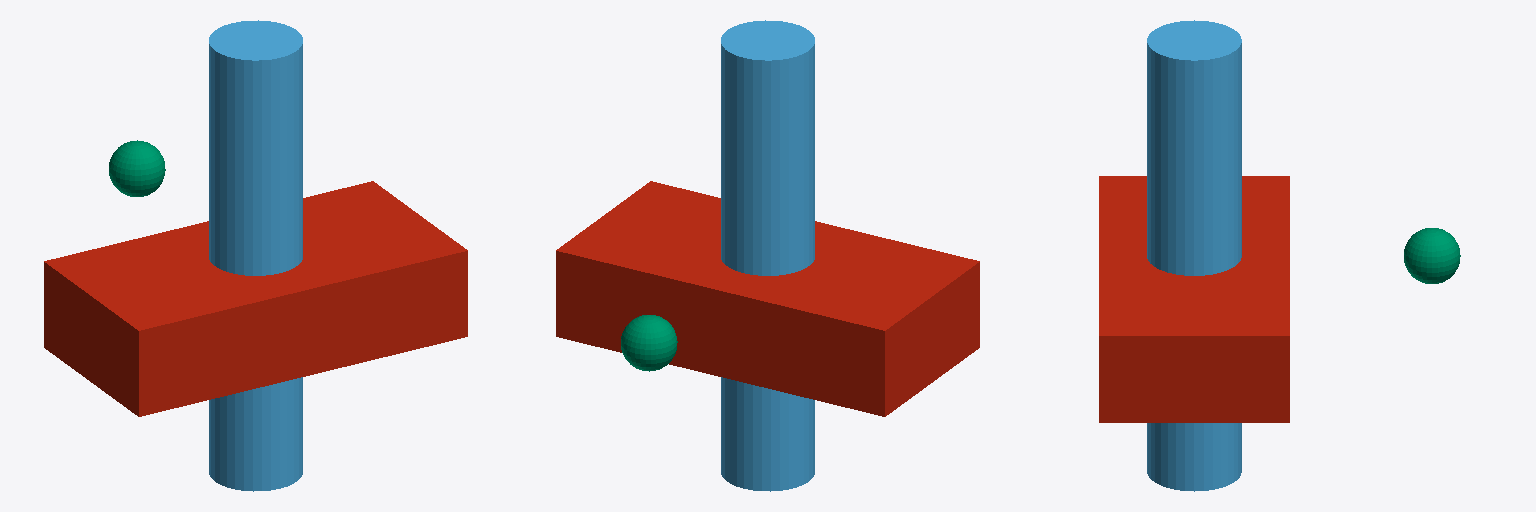
robot.urdf — two_link_arm:
<?xml version="1.0"?>
<robot name="two_link_arm">
  <link name="base_link">
    <inertial>
      <mass value="2"/>
      <inertia ixx="0.01" ixy="0" ixz="0" iyy="0.01" iyz="0" izz="0.01"/>
    </inertial>
    <visual>
      <origin xyz="0 0 0" rpy="0 0 0"/>
      <geometry><box size="0.4 0.2 0.1"/></geometry>
      <material name="material"><color rgba="0.8 0.2 0.1 1"/></material>
    </visual>
    <collision>
      <origin xyz="0 0 0" rpy="0 0 0"/>
      <geometry><box size="0.4 0.2 0.1"/></geometry>
    </collision>
  </link>
  <link name="upper_link">
    <inertial>
      <mass value="1"/>
      <inertia ixx="0.005" ixy="0" ixz="0" iyy="0.005" iyz="0" izz="0.005"/>
    </inertial>
    <visual>
      <origin xyz="0 0 0" rpy="0 0 0"/>
      <geometry><cylinder radius="0.05" length="0.5"/></geometry>
    </visual>
  </link>
  <link name="tip_link">
    <inertial>
      <mass value="0.5"/>
      <inertia ixx="0.001" ixy="0" ixz="0" iyy="0.001" iyz="0" izz="0.001"/>
    </inertial>
    <visual>
      <origin xyz="0 0 0" rpy="0 0 0"/>
      <geometry><sphere radius="0.03"/></geometry>
    </visual>
  </link>
  <joint name="shoulder_joint" type="revolute">
    <parent link="base_link"/>
    <child link="upper_link"/>
    <origin xyz="0 0 0.05" rpy="0 0 0"/>
    <axis xyz="0 0 1"/>
    <limit lower="-3.14" upper="3.14" effort="10" velocity="2"/>
  </joint>
  <joint name="elbow_joint" type="revolute">
    <parent link="upper_link"/>
    <child link="tip_link"/>
    <origin xyz="0 0.25 0" rpy="0 0 0"/>
    <axis xyz="0 0 1"/>
    <limit lower="-1.57" upper="1.57" effort="5" velocity="1"/>
  </joint>
</robot>

--- What the picture shows (computed from the rendered views, not written in the file) ---
The picture shows the robot from 3 angles, left to right: view 1: azimuth 30°, elevation 25°; view 2: azimuth 150°, elevation 25°; view 3: azimuth 270°, elevation 25°; orthographic projection.
Robot: two_link_arm — 3 links, 2 joints (2 revolute); root link base_link; default pose: every joint at zero.
Visible links, largest first — view 1: base_link, upper_link, tip_link; view 2: base_link, upper_link, tip_link; view 3: base_link, upper_link, tip_link.
Boxes of the visible links, left/top/right/bottom form: base_link: left=44, top=181, right=467, bottom=416; upper_link: left=209, top=20, right=302, bottom=491; tip_link: left=109, top=140, right=165, bottom=196; base_link: left=556, top=181, right=979, bottom=416; upper_link: left=721, top=20, right=814, bottom=491; tip_link: left=621, top=315, right=677, bottom=371; base_link: left=1099, top=176, right=1289, bottom=422; upper_link: left=1147, top=20, right=1241, bottom=491; tip_link: left=1404, top=228, right=1460, bottom=283.
Size in the robot's own frame: 0.4 by 0.38 by 0.5 metres.
Geometry: primitives only (box / cylinder / sphere), no mesh files.
